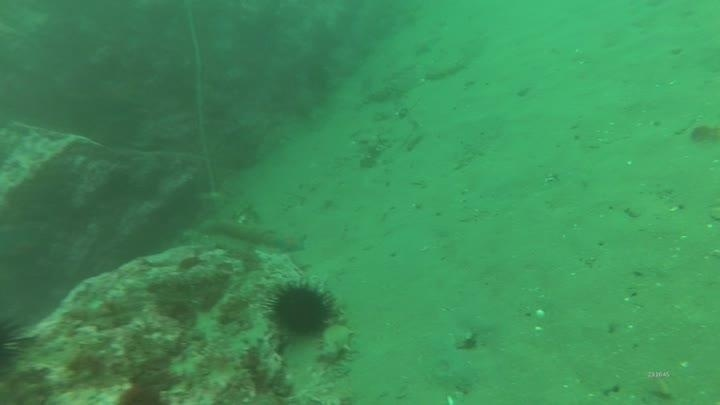echinus: (264, 276, 341, 342), (0, 314, 31, 380)
holothurian: (315, 317, 359, 366)
starfish: (268, 228, 310, 256)
